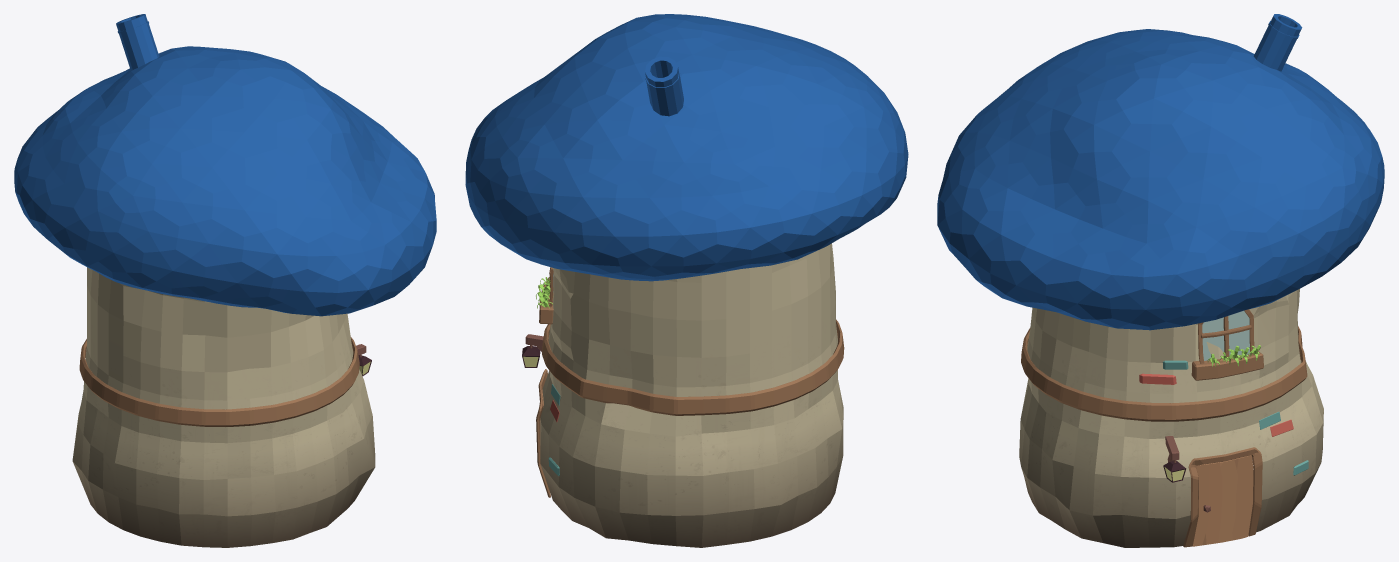
File: house.fbx
3 views of the same model, side by side, from view 1: azimuth 30°, elevation 25°; view 2: azimuth 150°, elevation 25°; view 3: azimuth 270°, elevation 25° (orthographic). The views are drawn at different scales.
Parts seen in each view (by area): view 1: body.006; view 2: body.006; view 3: body.006.
Boxes of the visible parts, x1,y1,x2,y2 form: body.006: [14, 14, 436, 547]; body.006: [465, 14, 908, 547]; body.006: [937, 14, 1384, 547].
Bounding box in the file's own units: 1881 × 2182 × 1922.
